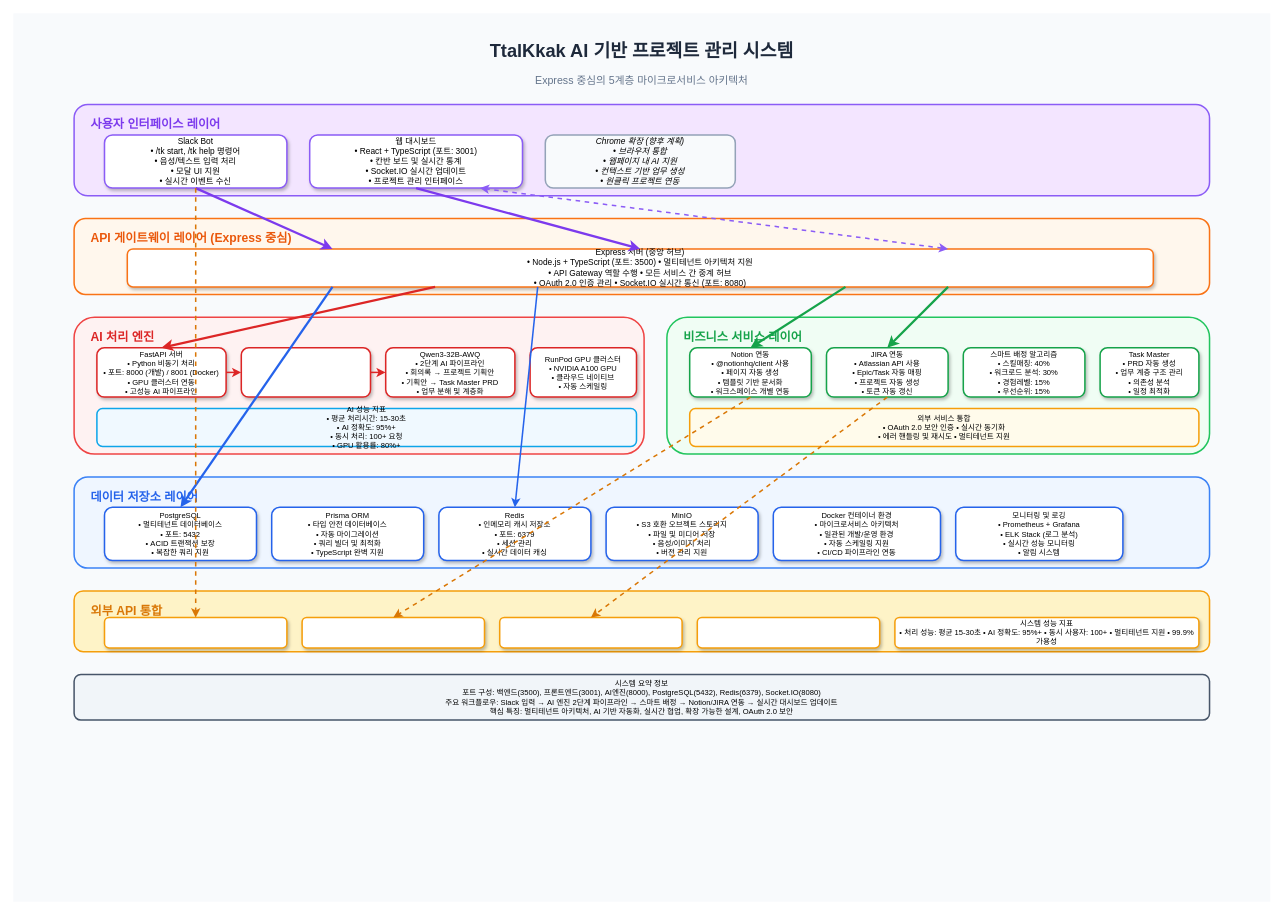
Some shapes in this 1283 by 914 pixel diagram are drawn without their labels. Each missing label, with the centre of its shape:
JIRA API • Atlassian REST API v3 • 프로젝트 및 이슈 관리 • 자동 Epic/Task 생성: the point at 591,633
Notion API • Pages 및 Blocks API • 워크스페이스 연동 • 자동 문서 생성: the point at 393,633
OAuth 2.0 보안 • 토큰 기반 인증 • 자동 갱신 메커니즘 • 멀티테넌트 격리: the point at 789,633
Slack API • @slack/bolt 프레임워크 • 이벤트 API 및 웹훅 • OAuth 2.0 인증: the point at 196,633
WhisperX STT • 음성 → 텍스트 변환 • large-v3 모델 사용 • 타임스탬프 포함 전사 • 다국어 지원: the point at 306,373
